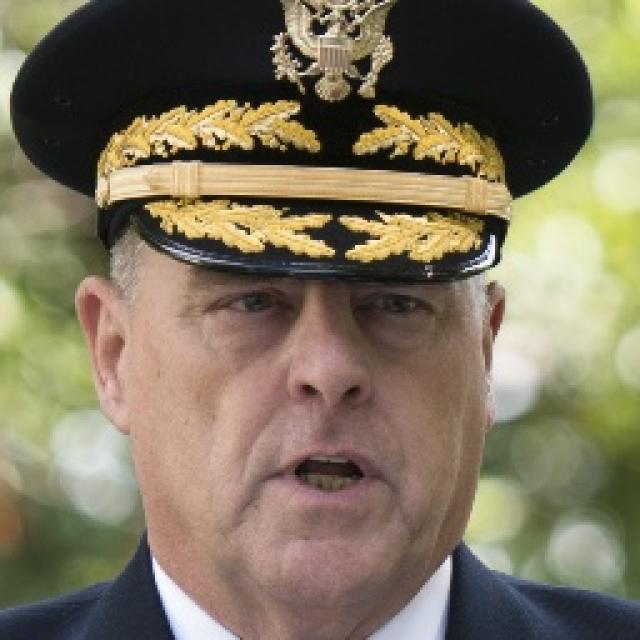earlobe: (103, 381, 136, 437)
eye: (204, 284, 288, 320), (360, 288, 437, 322)
nose: (286, 378, 380, 441)
wholeear: (74, 276, 138, 436), (477, 279, 500, 432)
